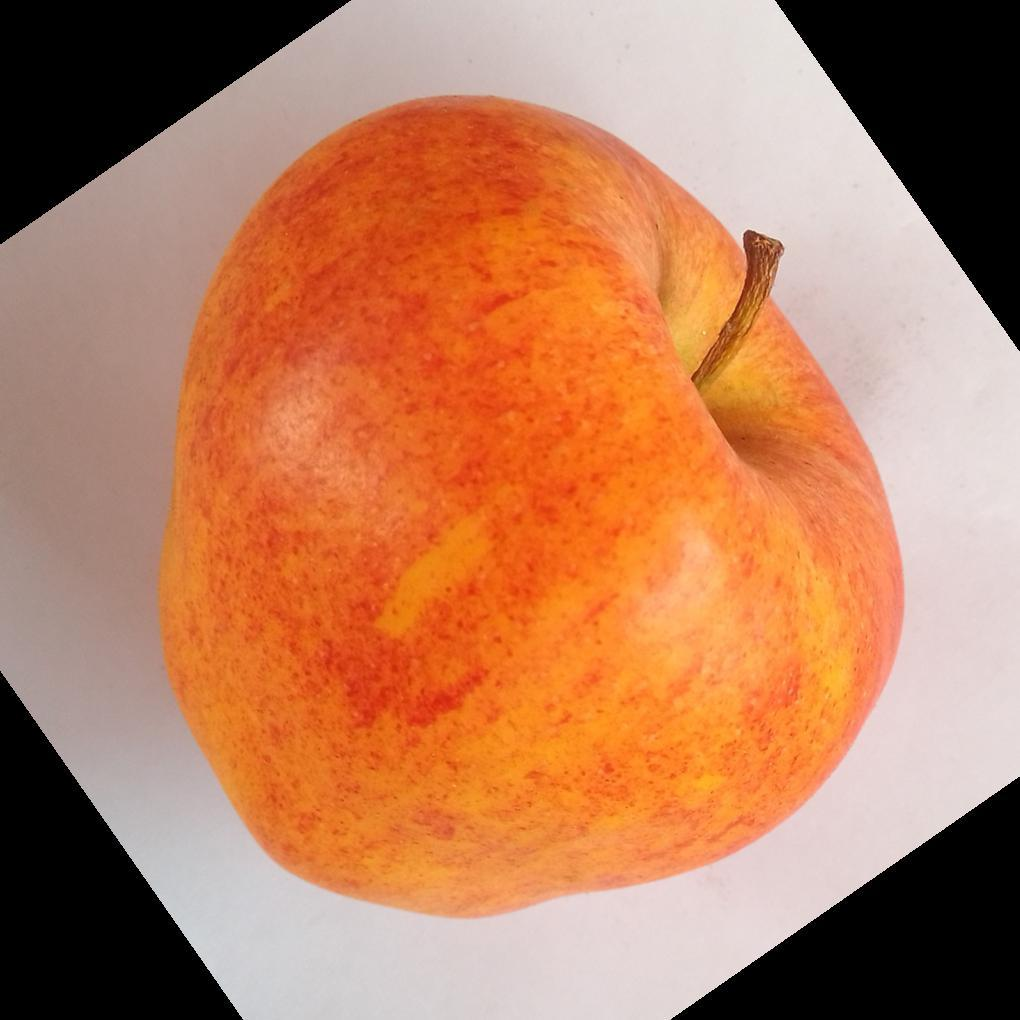FreshGuava: (154, 96, 905, 924)
